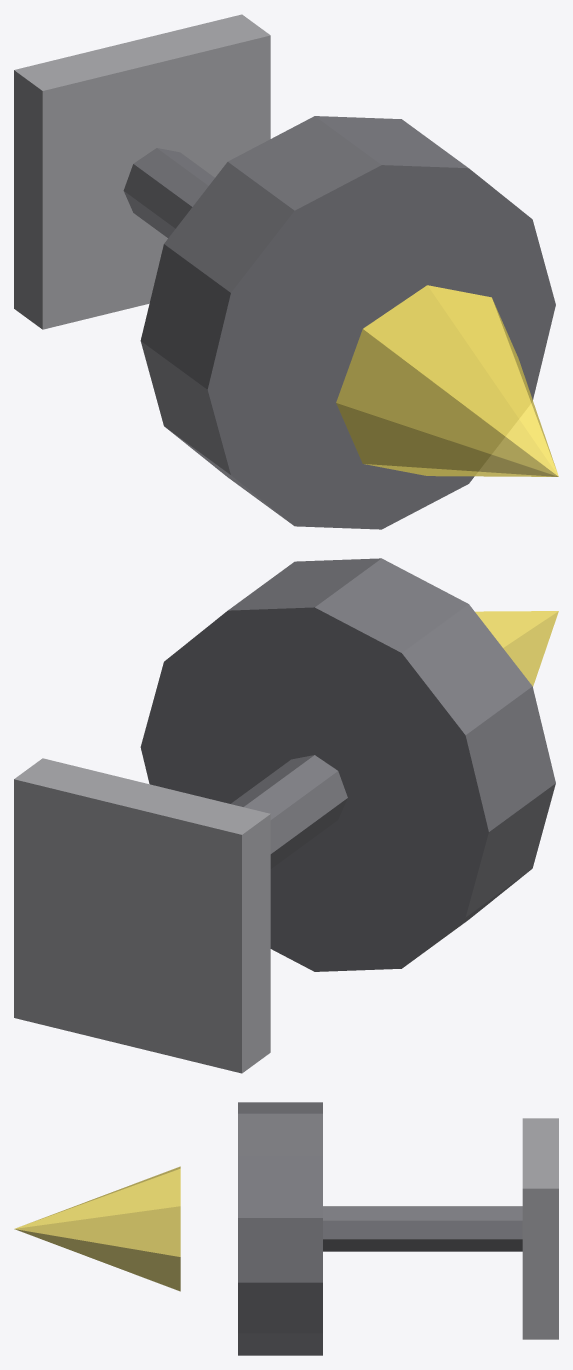
Rendered from ruins_ancient_brazier.glb.
3 views of the same model, one above another, from view 1: azimuth 30°, elevation 25°; view 2: azimuth 150°, elevation 25°; view 3: azimuth 270°, elevation 25° (orthographic). The views are drawn at different scales.
Visible parts, largest first — view 1: bowl, base, flame, stand; view 2: bowl, base, stand, flame; view 3: bowl, flame, stand, base.
Part boxes in pixels (bbox=[...]): bowl: bbox=[140, 116, 555, 529]; base: bbox=[14, 14, 270, 329]; flame: bbox=[336, 285, 558, 476]; stand: bbox=[123, 148, 214, 237]; bowl: bbox=[140, 558, 555, 971]; base: bbox=[14, 758, 270, 1073]; stand: bbox=[231, 755, 347, 868]; flame: bbox=[475, 611, 558, 686]; bowl: bbox=[238, 1102, 322, 1355]; flame: bbox=[14, 1166, 180, 1291]; stand: bbox=[323, 1206, 522, 1251]; base: bbox=[522, 1118, 558, 1339].
Bounding box in the file's own units: 0.84 × 0.84 × 1.8.
